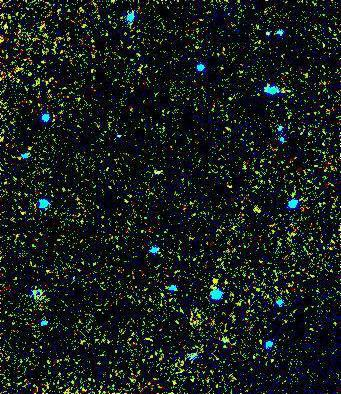star: (201, 265, 231, 295)
